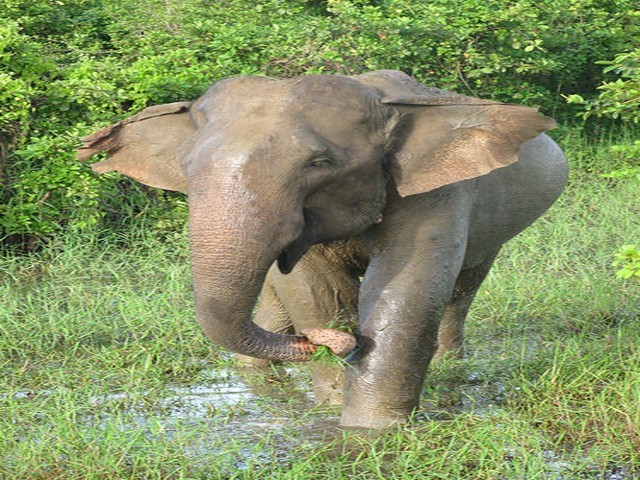Elephant: (72, 64, 584, 426)
